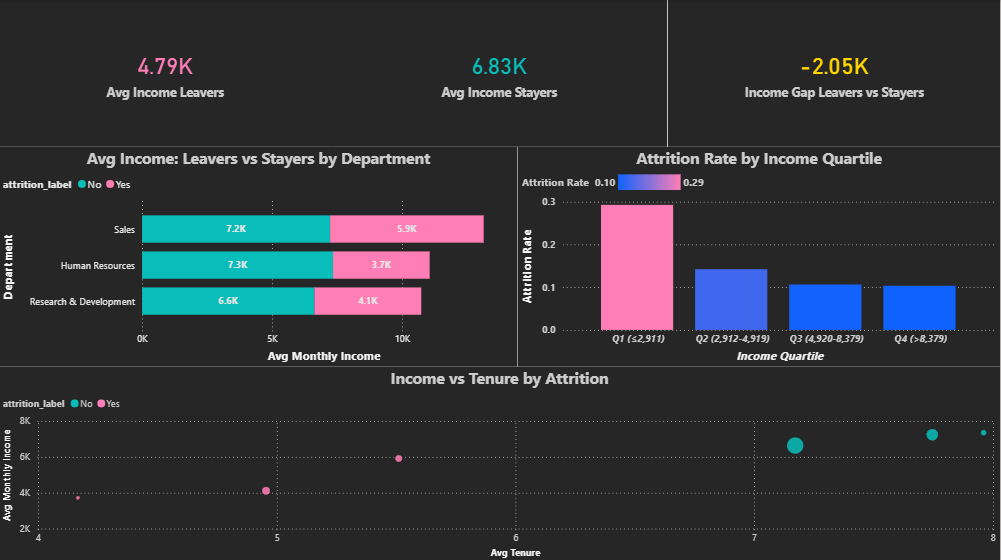

The page's visual inventory and layout, read from the dashboard file:
{"tool":"powerbi","page":{"name":"Compensation","canvas":[1280,720],"ordinal":2},"visuals":[{"type":"card","fields":{"Values":["Measuress.Avg Income Leavers"]},"box":[0,0,425,189.2],"z":0},{"type":"card","fields":{"Values":["Measuress.Avg Income Stayers"]},"box":[425,0,430,189.2],"z":1000},{"type":"card","fields":{"Values":["Measuress.Income Gap Leavers vs Stayers"]},"box":[855,0,425,189.2],"z":2000},{"type":"barChart","title":"Avg Income: Leavers vs Stayers by Department","fields":{"Category":["dim_department.department_name"],"Y":["Measuress.Avg Monthly Income"],"Series":["fact_employee_attrition.attrition_label"]},"box":[0,189.2,663.3,281.2],"z":3000},{"type":"clusteredColumnChart","title":"Attrition Rate by Income Quartile","fields":{"Category":["fact_employee_attrition.income_quartile"],"Y":["Measuress.Attrition Rate"]},"box":[663.3,189.2,616.7,281.2],"z":4000},{"type":"scatterChart","title":"Income vs Tenure by Attrition","fields":{"X":["Measuress.Avg Tenure"],"Y":["Measuress.Avg Monthly Income"],"Series":["fact_employee_attrition.attrition_label"],"Size":["Measuress.Total Employees"],"Category":["dim_department.department_name"]},"box":[0,470.4,1280,249.7],"z":5000}]}

Visuals, with their boxes in screenshot pixels (x1, y1, x2, y2), scaled from the page's 1280x720 canvas onto the 1001x560 screenshot:
card - Measuress.Avg Income Leavers: pyautogui.locateOnScreen(0, 0, 332, 147)
card - Measuress.Avg Income Stayers: pyautogui.locateOnScreen(332, 0, 669, 147)
card - Measuress.Income Gap Leavers vs Stayers: pyautogui.locateOnScreen(669, 0, 1000, 147)
"Avg Income: Leavers vs Stayers by Department" barChart: pyautogui.locateOnScreen(0, 147, 519, 366)
"Attrition Rate by Income Quartile" clusteredColumnChart: pyautogui.locateOnScreen(519, 147, 1000, 366)
"Income vs Tenure by Attrition" scatterChart: pyautogui.locateOnScreen(0, 366, 1000, 559)
